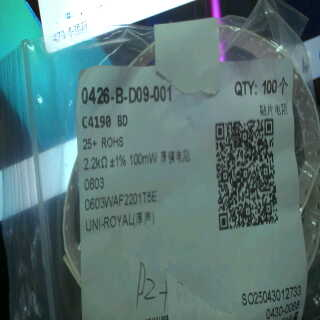2.2kR: (79, 155, 109, 171)
